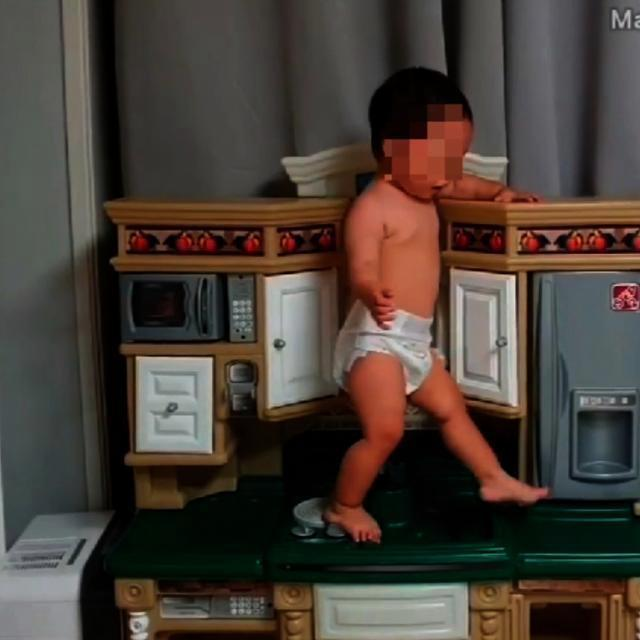child: (331, 62, 555, 542)
